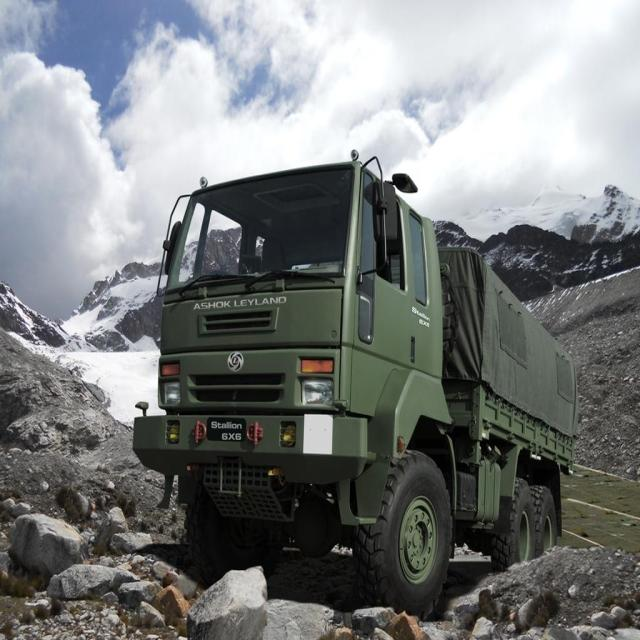normal_truck: (134, 157, 578, 614)
